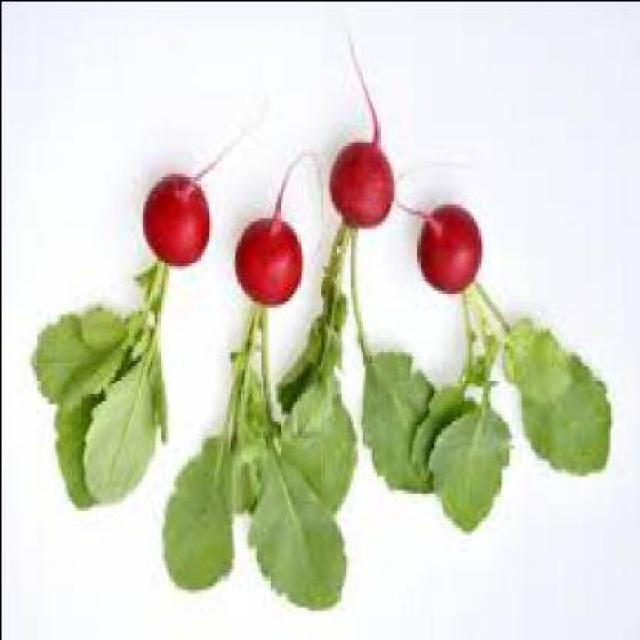BIODEGRADABLE: (350, 234, 614, 537), (159, 226, 359, 615), (29, 258, 175, 514), (140, 174, 211, 271), (234, 217, 305, 311), (415, 205, 485, 297), (329, 142, 397, 232)
